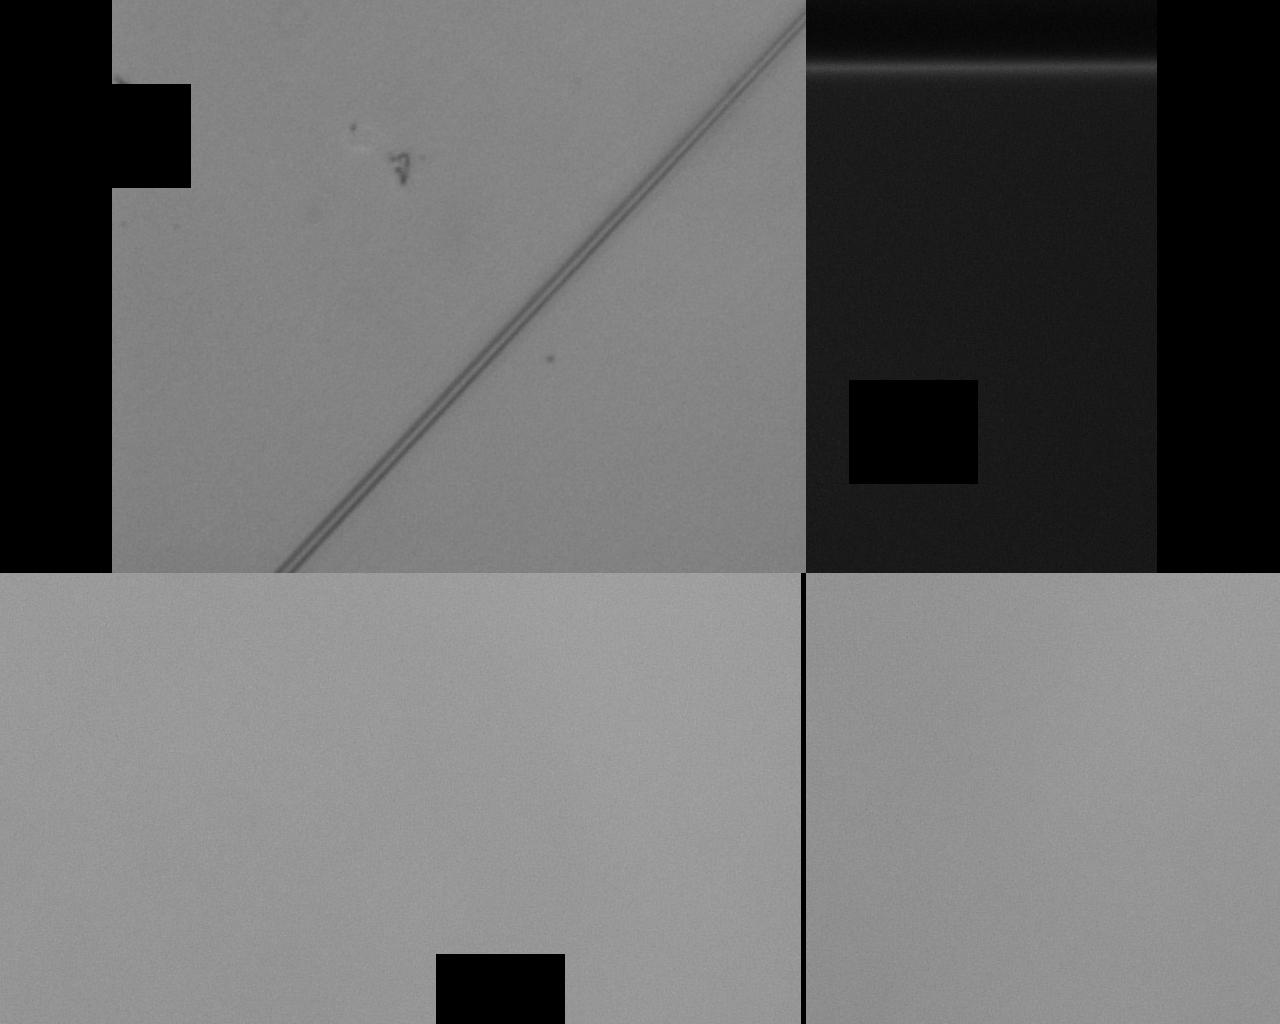fiber: (271, 3, 806, 573)
